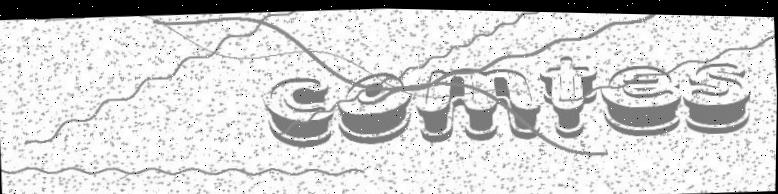c: (264, 73, 336, 150)
e: (598, 58, 683, 137)
m: (413, 61, 541, 144)
o: (333, 69, 414, 146)
s: (680, 55, 753, 134)
t: (537, 50, 600, 138)
